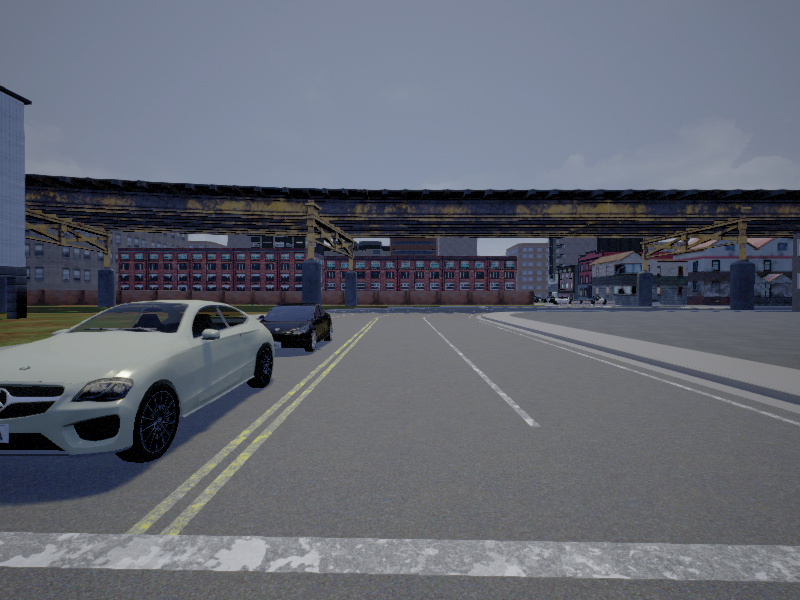Benign: (1, 299, 274, 464), (256, 304, 332, 351)
